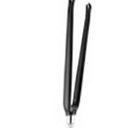Fork: (55, 1, 95, 128)
